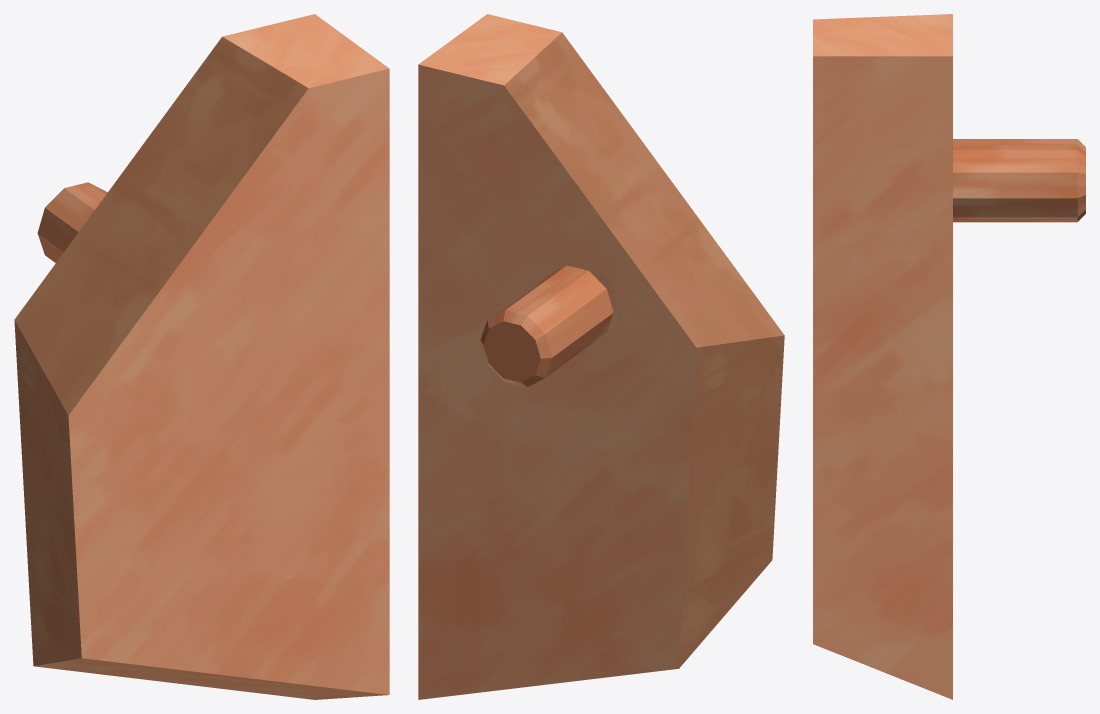
The model's file is wall_upper_s10.fbx.
The picture shows the model from 3 angles, left to right: view 1: azimuth 30°, elevation 25°; view 2: azimuth 150°, elevation 25°; view 3: azimuth 270°, elevation 25°; orthographic projection. The views are drawn at different scales.
Visible parts, largest first — view 1: wall_upper_s10; view 2: wall_upper_s10; view 3: wall_upper_s10.
Part boxes in pixels (x1,y1,x2,y2): wall_upper_s10: (14,14,389,699); wall_upper_s10: (418,14,784,699); wall_upper_s10: (813,14,1085,699).
Size of the model in its own units: 2.48 by 5.07 by 1.95.
